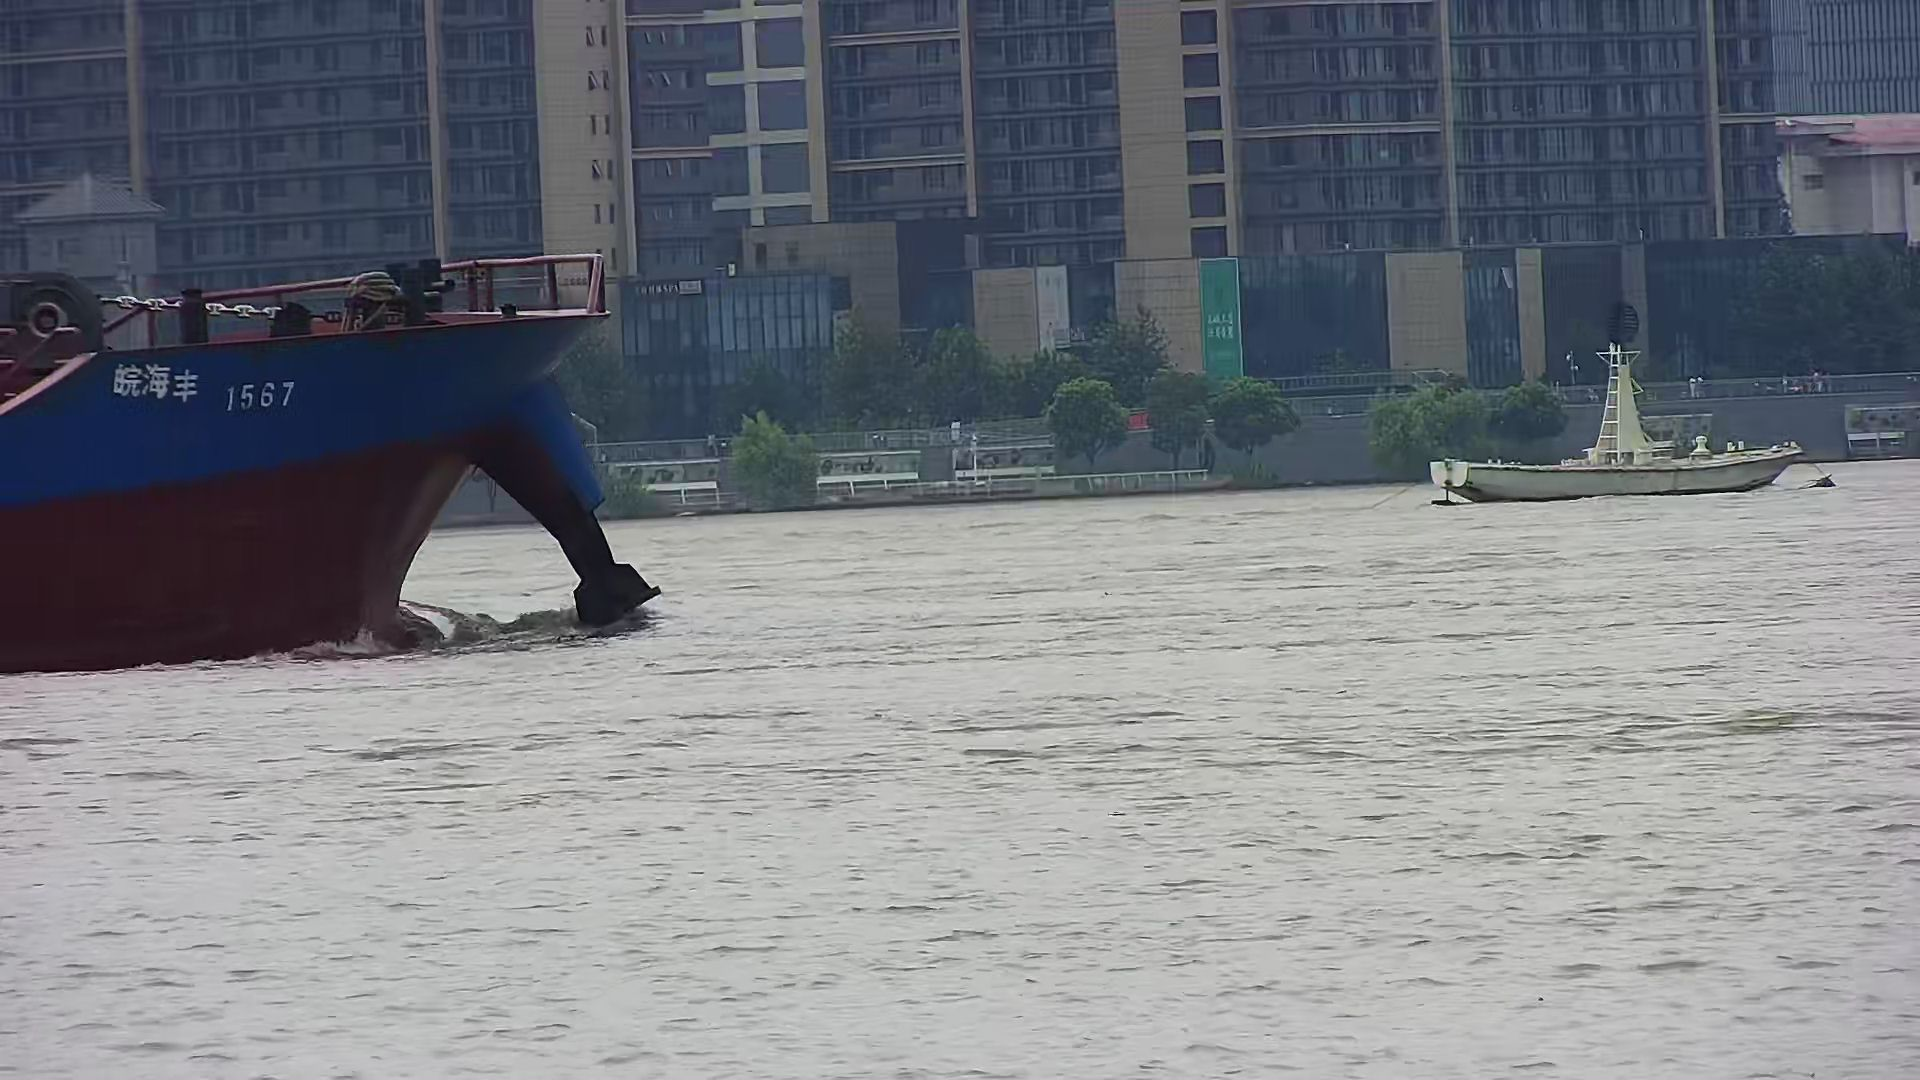boat: (1429, 340, 1807, 502)
ship: (1, 252, 665, 676)
